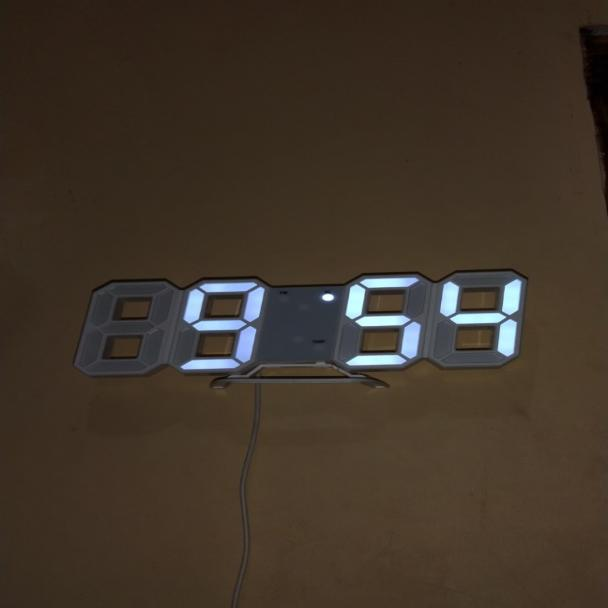Jam: (62, 264, 527, 378)
